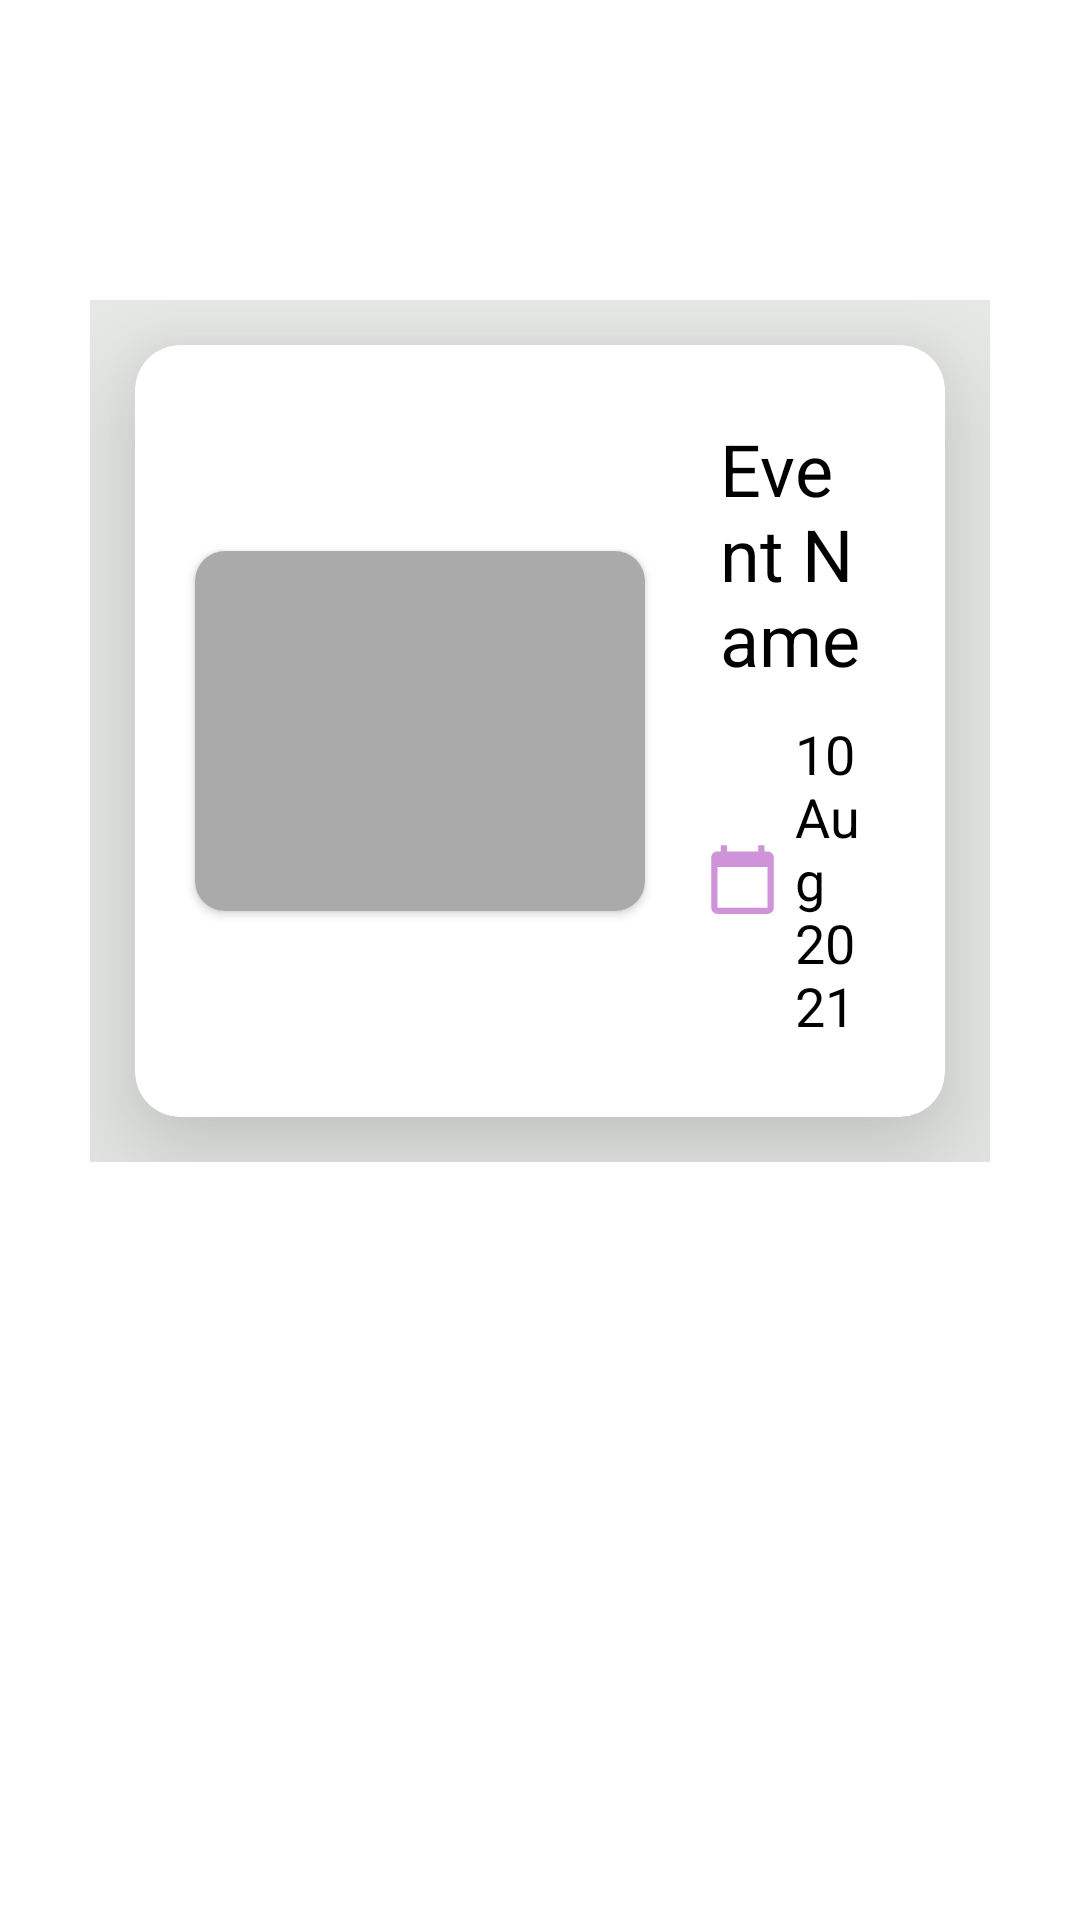

Icon click points for this 1080 × 1920 phone screenshot, format [x,y]:
calendar today: [742,879]
